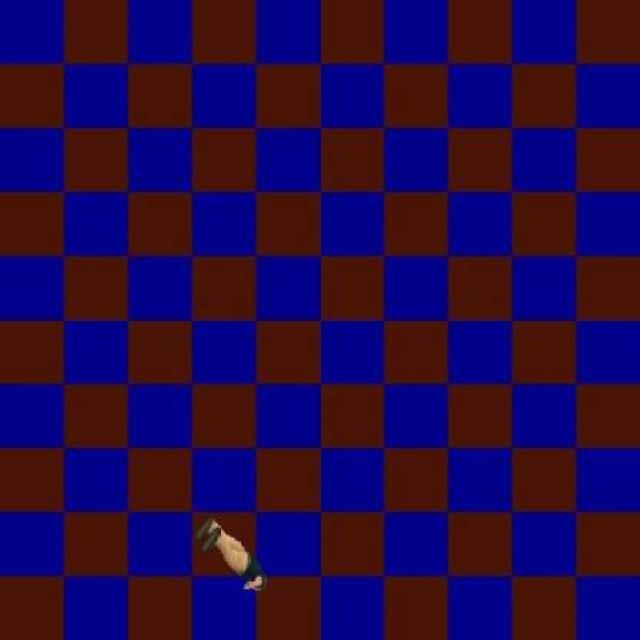Person: (194, 509, 272, 594)
